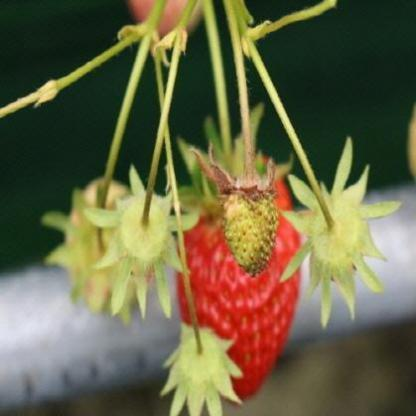Strawberry_Gray_Mold: (189, 142, 281, 206)
